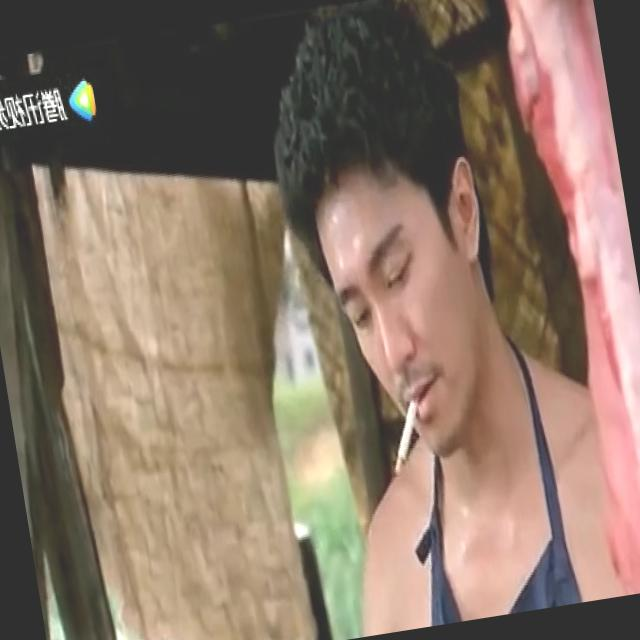smoke: (384, 397, 426, 475)
